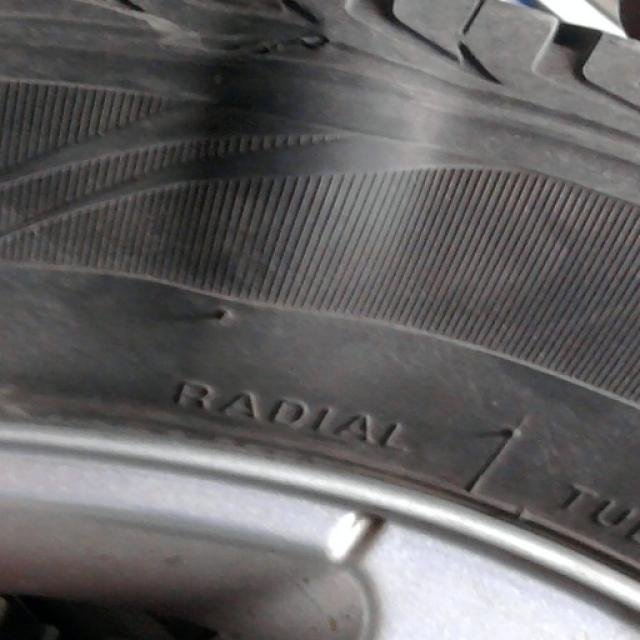Bulge: (156, 28, 464, 320)
